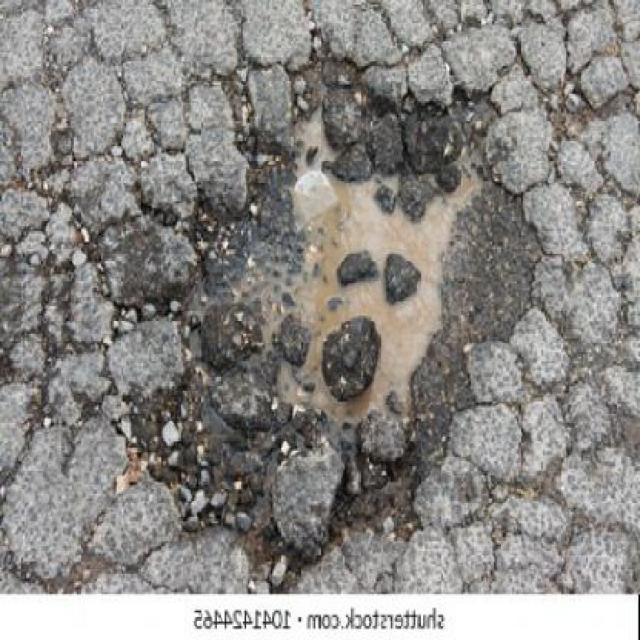Pothole: (112, 45, 553, 594)
